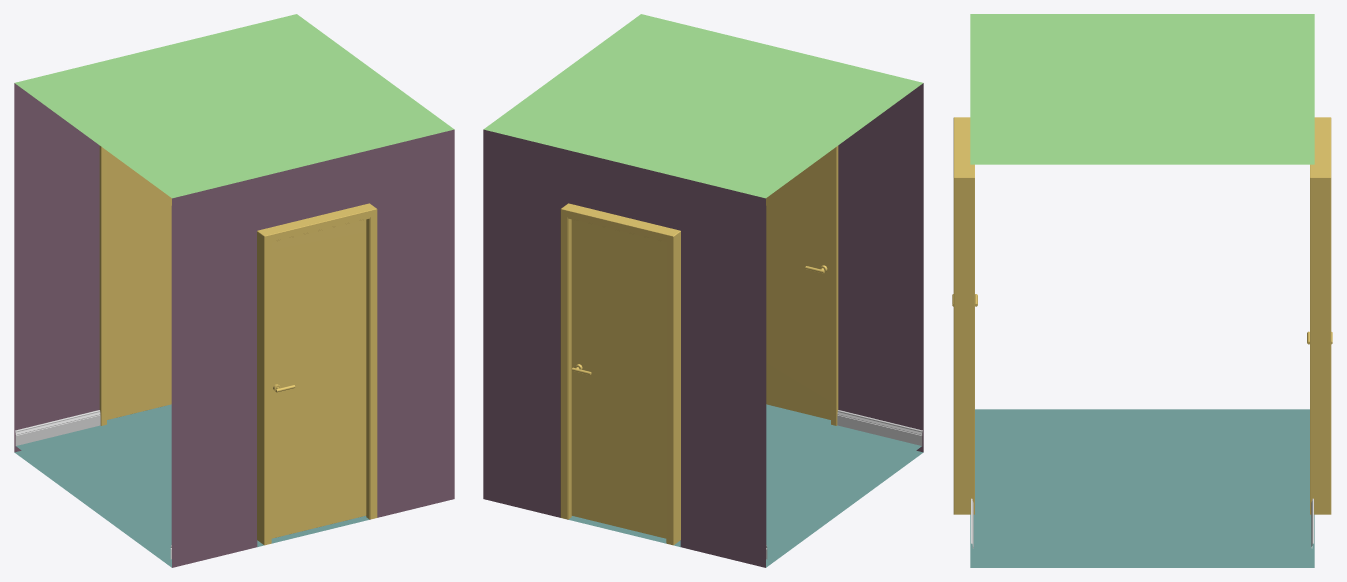
File: Corridor_2_door.fbx
The picture shows the model from 3 angles, left to right: view 1: azimuth 30°, elevation 25°; view 2: azimuth 150°, elevation 25°; view 3: azimuth 270°, elevation 25°; orthographic projection. The views are drawn at different scales.
Parts seen in each view (by area): view 1: Corridor_wall_door_2_holes, Door (×2), Doorframe (×2); view 2: Corridor_wall_door_2_holes, Door (×2), Doorframe (×2); view 3: Corridor_wall_door_2_holes, Doorframe (×2).
Part boxes in pixels (left/top/right/bottom): Corridor_wall_door_2_holes: left=14, top=14, right=454, bottom=567; Door (×2): left=107, top=151, right=366, bottom=538; Doorframe (×2): left=99, top=146, right=377, bottom=545; Corridor_wall_door_2_holes: left=483, top=14, right=923, bottom=567; Door (×2): left=571, top=151, right=830, bottom=538; Doorframe (×2): left=560, top=146, right=838, bottom=545; Corridor_wall_door_2_holes: left=970, top=14, right=1314, bottom=567; Doorframe (×2): left=953, top=117, right=1331, bottom=514.
Bounding box in the file's own units: 2 × 2.5 × 2.14.
